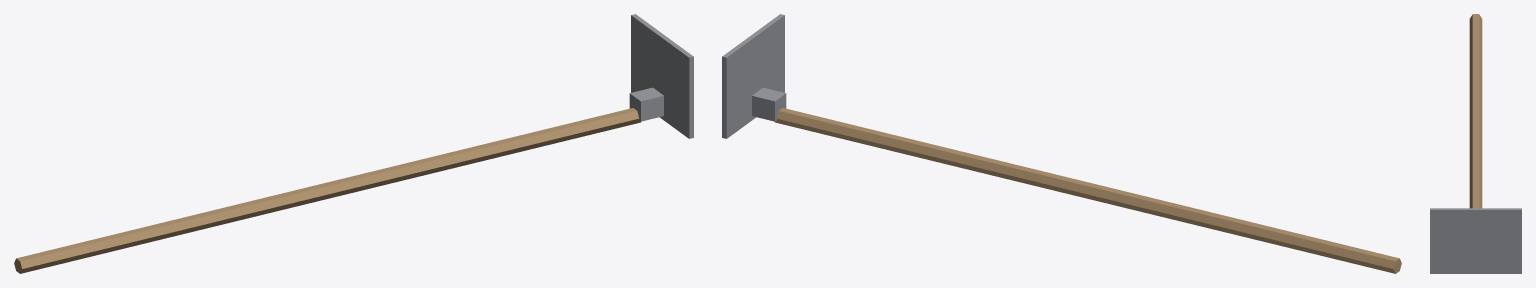
The model's file is prop-mixing-hoe-mm1.fbx.
3 views of the same model, side by side, from view 1: azimuth 30°, elevation 25°; view 2: azimuth 150°, elevation 25°; view 3: azimuth 270°, elevation 25° (orthographic). The views are drawn at different scales.
Parts seen in each view (by area): view 1: prop-mixing-hoe-mm1; view 2: prop-mixing-hoe-mm1; view 3: prop-mixing-hoe-mm1.
Boxes of the visible parts, x1=… form: prop-mixing-hoe-mm1: x1=14, y1=14, x2=693, y2=273; prop-mixing-hoe-mm1: x1=722, y1=14, x2=1401, y2=273; prop-mixing-hoe-mm1: x1=1430, y1=14, x2=1521, y2=273.
Size of the model in its own units: 167 by 20 by 26.
